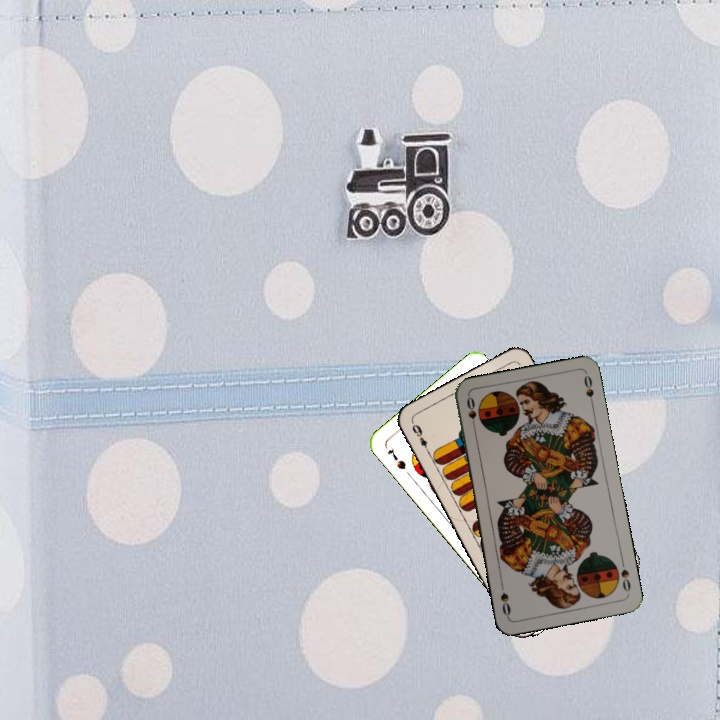E9: (408, 420, 432, 456)
S7: (383, 443, 409, 472)
SO: (463, 393, 479, 433), (617, 556, 633, 596)
